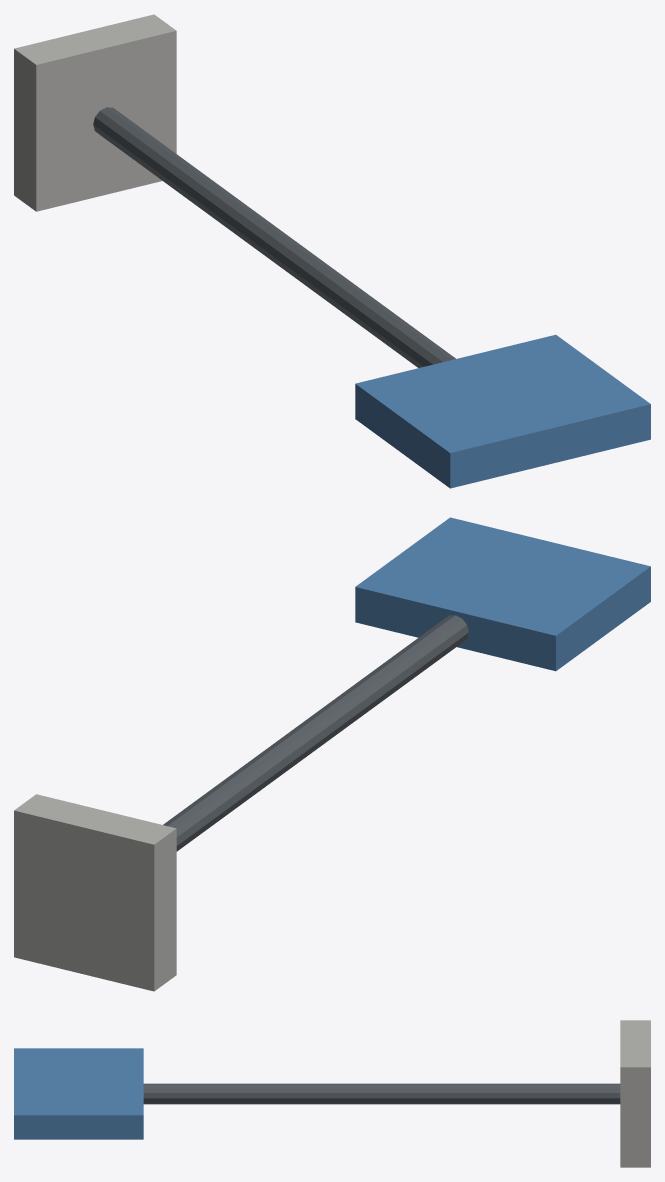
File: bus_stop_sign.glb
3 renders of one model, top to bottom at view 1: azimuth 30°, elevation 25°; view 2: azimuth 150°, elevation 25°; view 3: azimuth 270°, elevation 25°, orthographic. The views are drawn at different scales.
Visible parts, largest first — view 1: 0002_Blue_bus_sign, 0000_Sign_base, 0001_Pole; view 2: 0002_Blue_bus_sign, 0000_Sign_base, 0001_Pole; view 3: 0002_Blue_bus_sign, 0001_Pole, 0000_Sign_base.
Boxes of the visible parts, <box> form: 0002_Blue_bus_sign: <box>355,334,650,488</box>; 0000_Sign_base: <box>14,14,176,211</box>; 0001_Pole: <box>93,107,455,367</box>; 0002_Blue_bus_sign: <box>355,517,650,671</box>; 0000_Sign_base: <box>14,794,176,991</box>; 0001_Pole: <box>163,615,468,851</box>; 0002_Blue_bus_sign: <box>14,1048,143,1139</box>; 0001_Pole: <box>143,1083,620,1104</box>; 0000_Sign_base: <box>620,1020,650,1167</box>.
Size of the model in its own units: 0.83 by 0.58 by 3.34.
